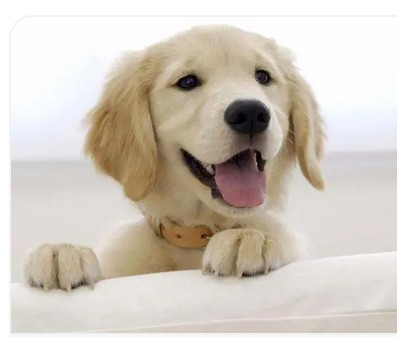dog: (29, 15, 341, 285)
